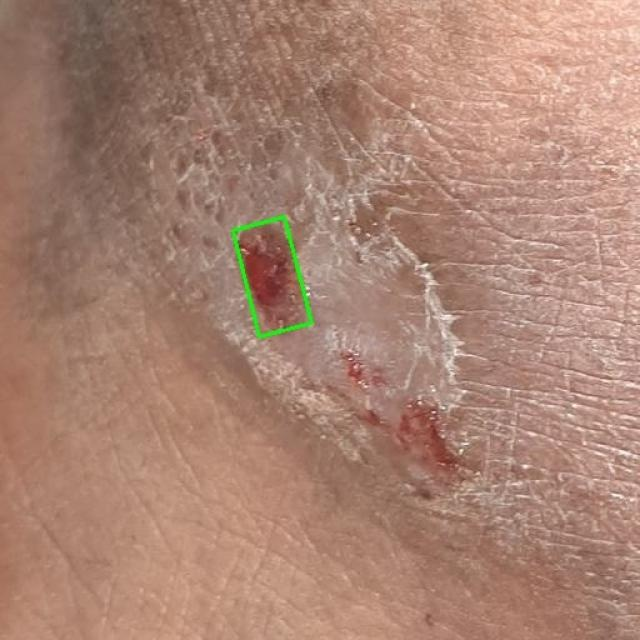Contact Dermatitis: (233, 217, 312, 337)
